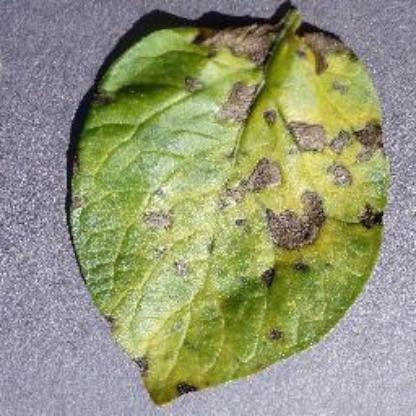Early-Blight: (66, 4, 390, 408)
